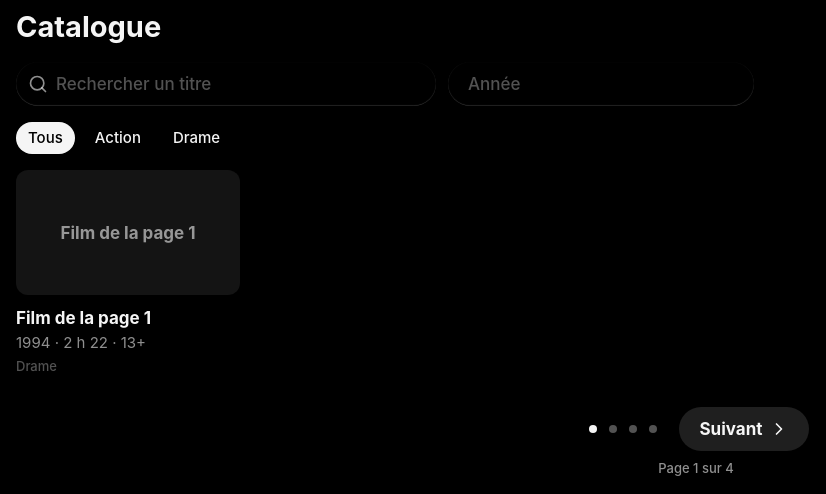
it: page du catalogue (spec 08) › indique le chargement pendant le passage à une autre page
Expected: the text "Page 1 sur 4" is shown, [658, 459, 734, 477]
Click the link "Suivant": x=744, y=429 [680, 407, 808, 451]
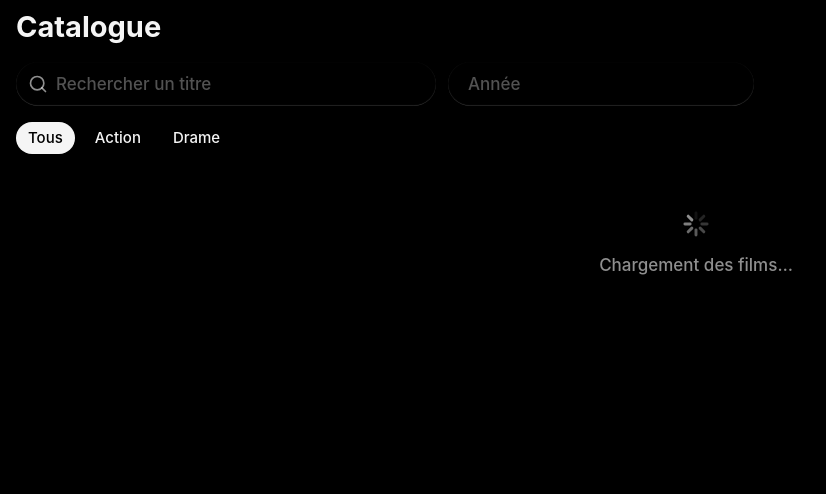
Now the text "Chargement des films…" is shown, box [599, 254, 793, 276]
